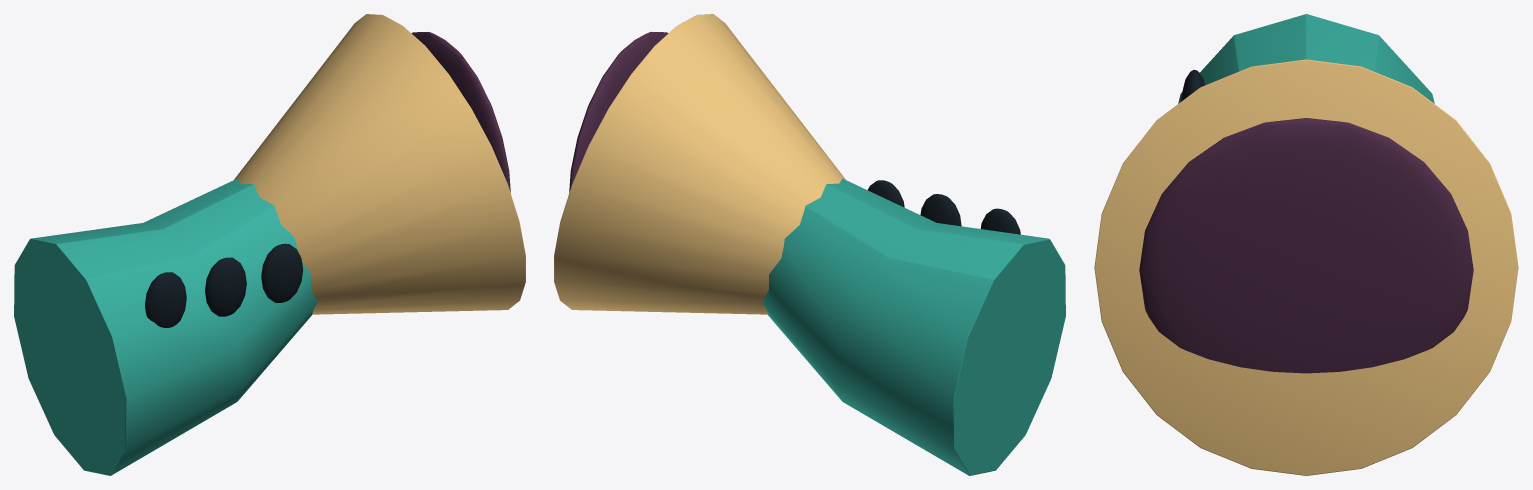
File: snout_trumpet.glb
3 views of the same model, side by side, from view 1: azimuth 30°, elevation 25°; view 2: azimuth 150°, elevation 25°; view 3: azimuth 270°, elevation 25° (orthographic). The views are drawn at different scales.
Parts seen in each view (by area): view 1: snout_trumpet; view 2: snout_trumpet; view 3: snout_trumpet.
Part boxes in pixels (<box>): snout_trumpet: <box>14,14,525,475</box>; snout_trumpet: <box>554,14,1065,475</box>; snout_trumpet: <box>1094,14,1518,475</box>.
Size of the model in its own units: 1.11 by 0.934 by 0.7579.
